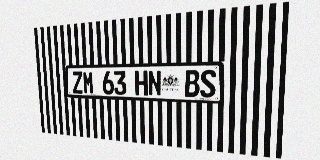3: (114, 71, 126, 95)
6: (102, 71, 114, 95)
B: (185, 70, 200, 97)
H: (135, 70, 148, 96)
M: (83, 71, 94, 94)
N: (148, 70, 161, 96)
S: (200, 70, 216, 98)
Z: (72, 71, 83, 94)
